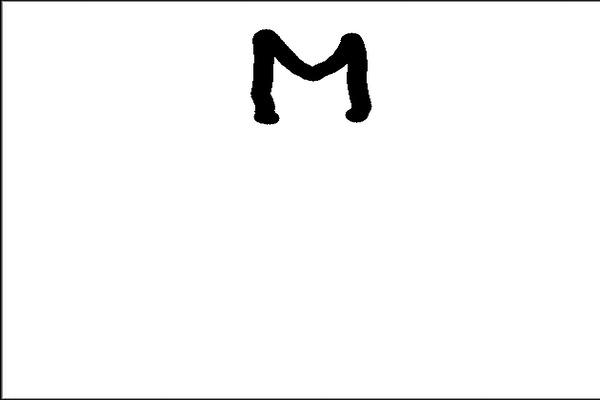M: (248, 25, 384, 132)
